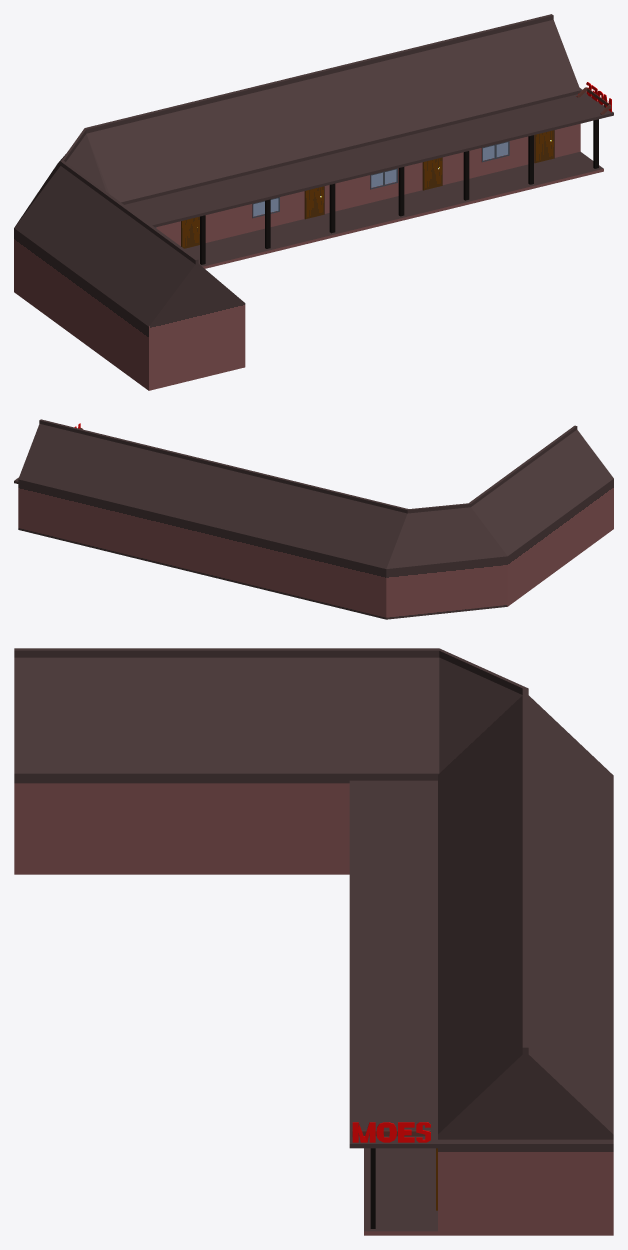
The model's file is Motel_Outside.glb.
3 renders of one model, top to bottom at view 1: azimuth 30°, elevation 25°; view 2: azimuth 150°, elevation 25°; view 3: azimuth 270°, elevation 25°, orthographic. The views are drawn at different scales.
Parts seen in each view (by area): view 1: MainBuilding.001, Beams, Door, Door.001, Door.002, Door.003; view 2: MainBuilding.001; view 3: MainBuilding.001, E.
Part boxes in pixels (left/top/right/bottom): MainBuilding.001: left=14, top=14, right=613, bottom=390; Beams: left=200, top=119, right=598, bottom=264; Door: left=534, top=130, right=554, bottom=163; Door.001: left=422, top=157, right=442, bottom=190; Door.002: left=304, top=186, right=324, bottom=219; Door.003: left=181, top=216, right=199, bottom=248; MainBuilding.001: left=14, top=419, right=613, bottom=619; MainBuilding.001: left=14, top=648, right=613, bottom=1235; E: left=352, top=1122, right=430, bottom=1142.
Size of the model in its own units: 141 by 28.11 by 81.2.
5 materials, 5 textured.
